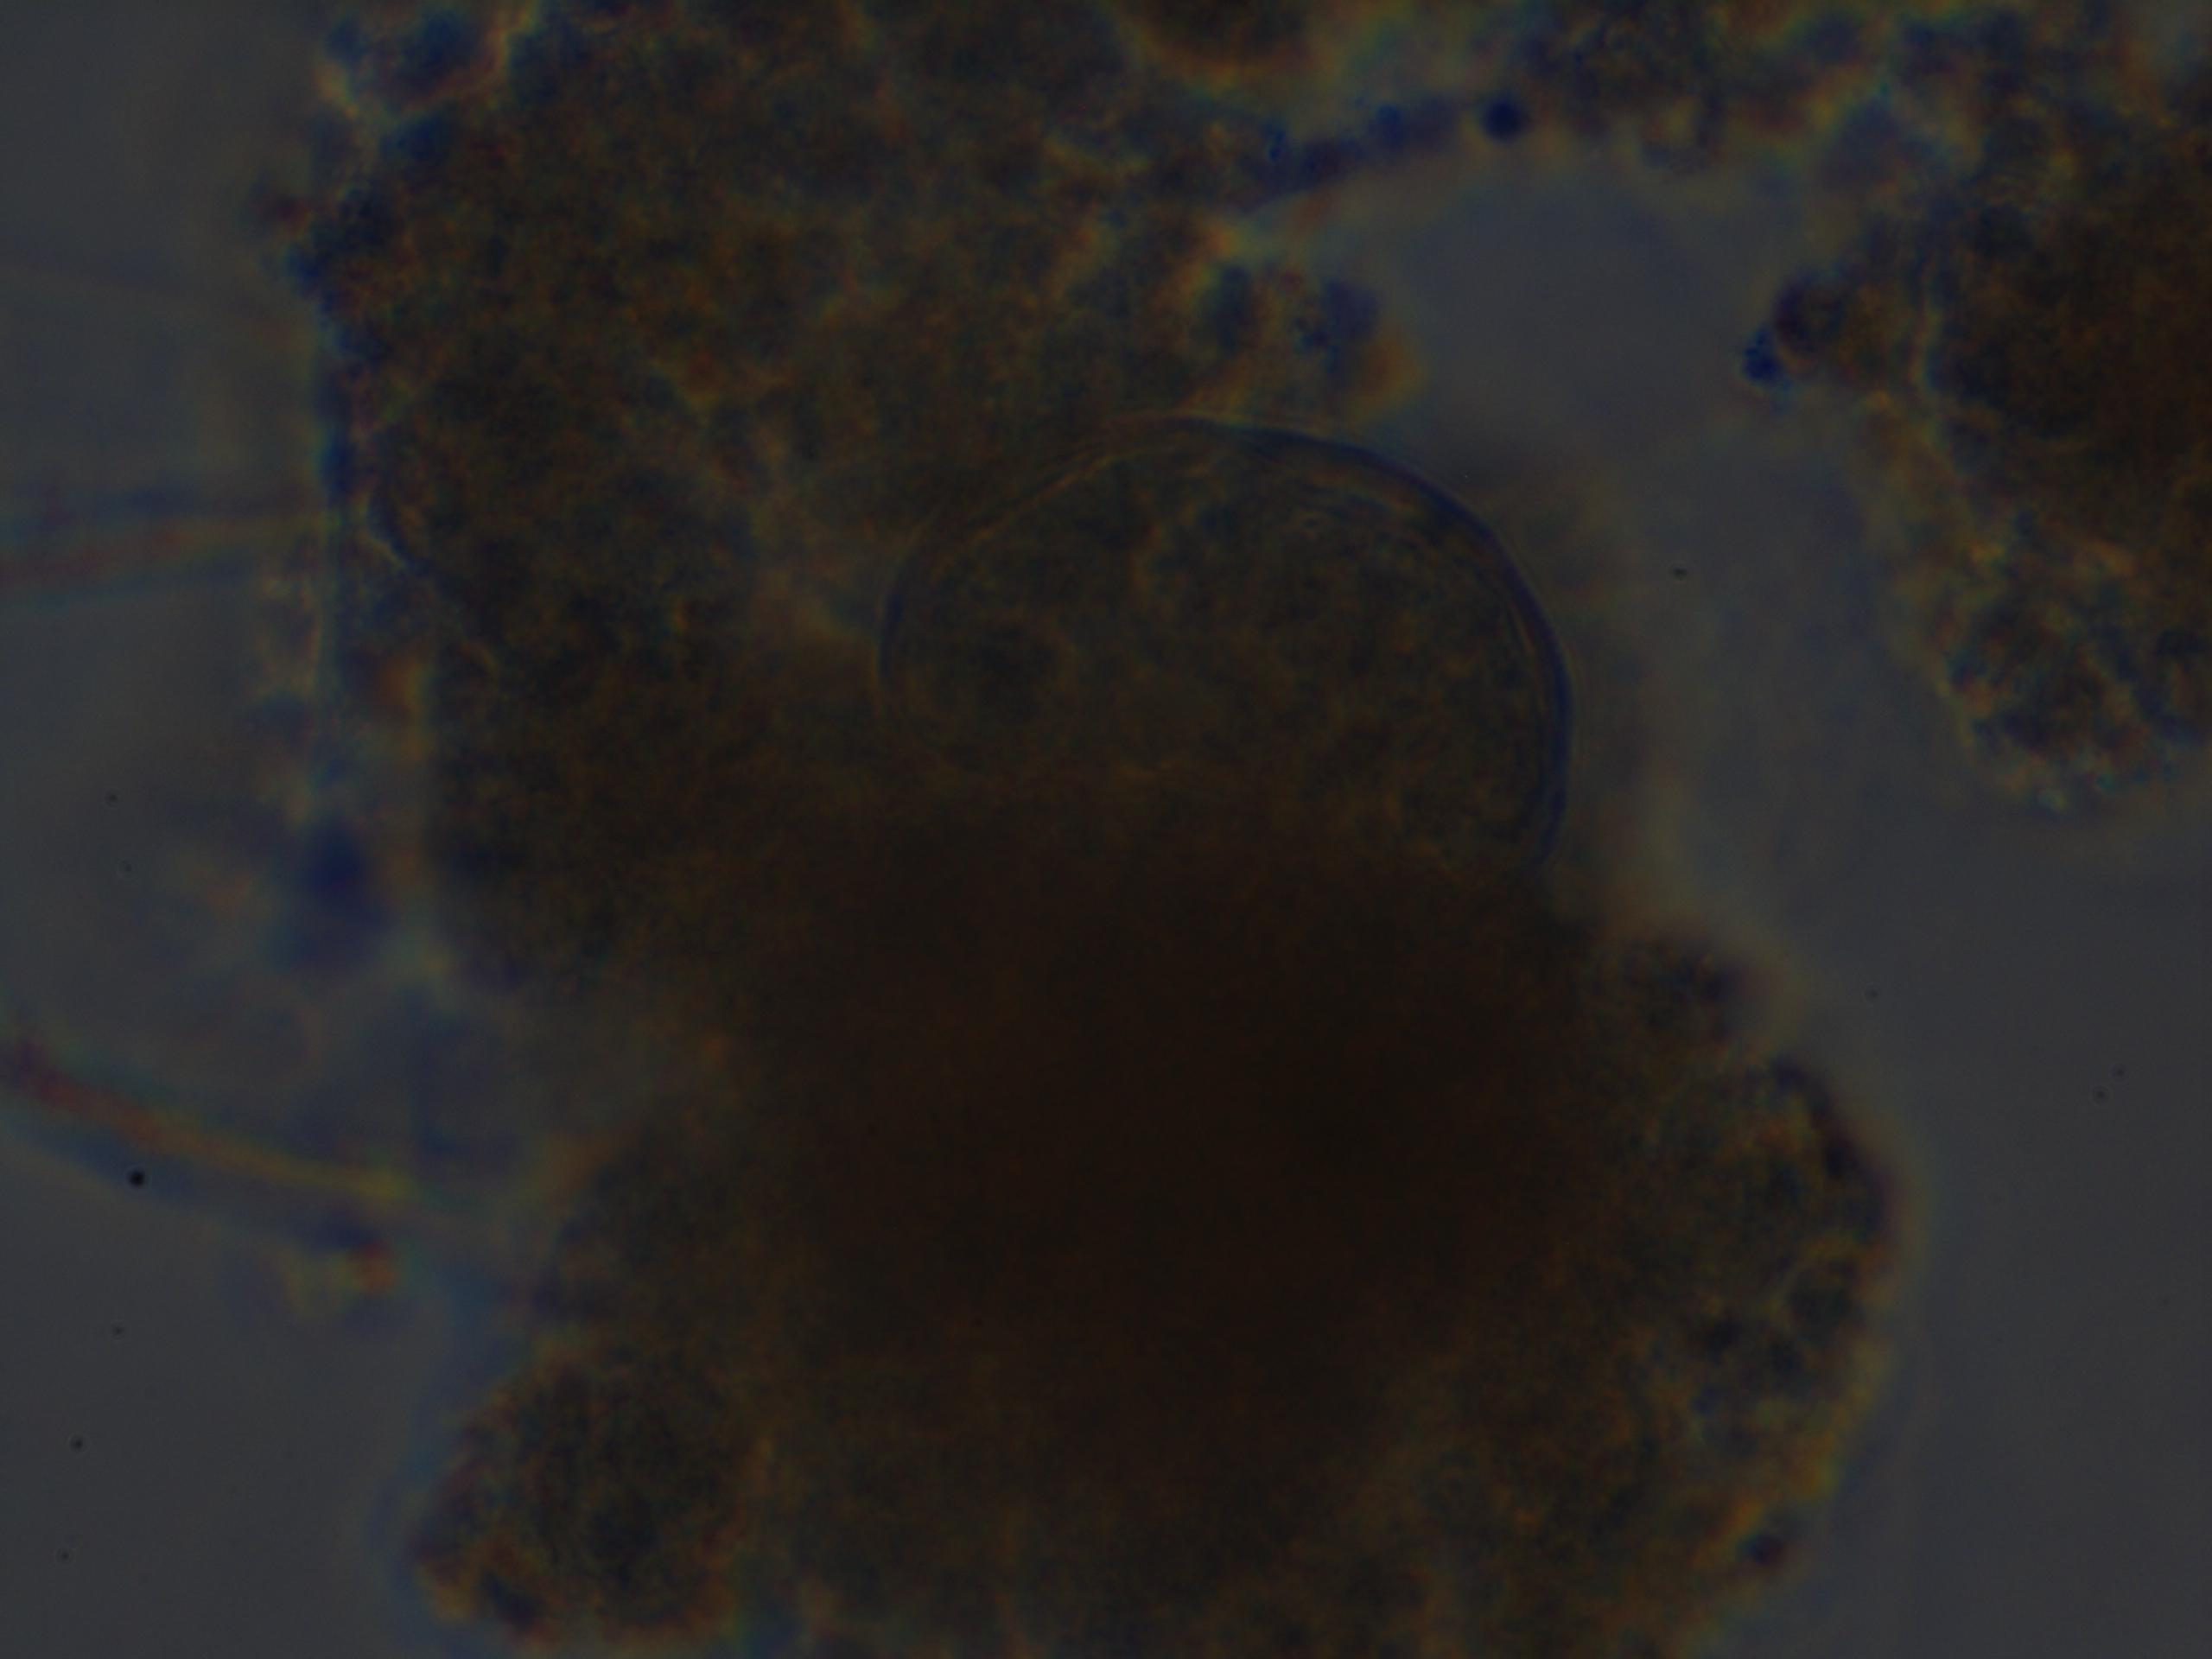filament: (3, 1037, 535, 1321)
protozoa: (864, 410, 1585, 892)
